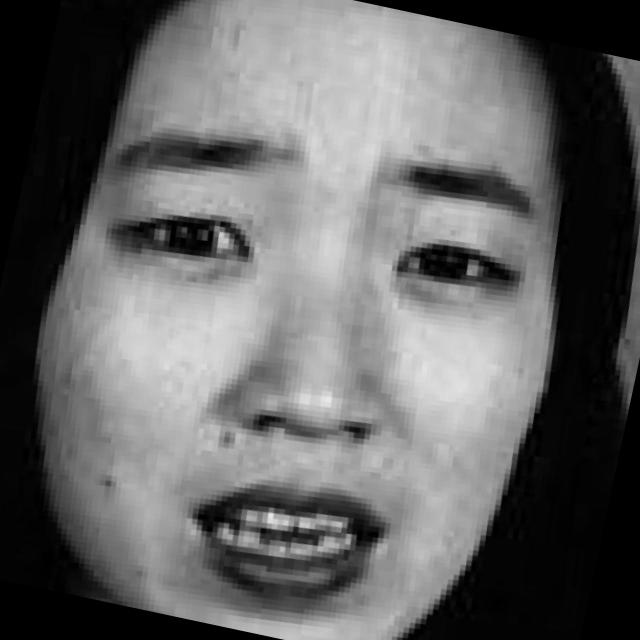fear: (30, 3, 615, 640)
